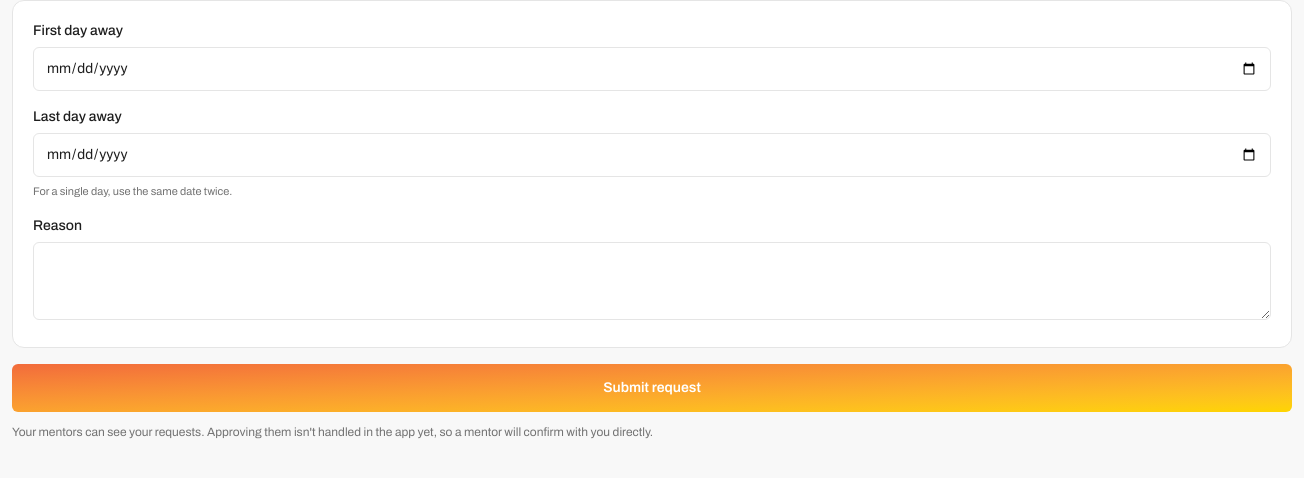
Test case: validation before anything is sent › refuses a range that ends before it starts
Step 1. Type "2026-08-07" into the date field labelled "First day away" → (652, 69), box [33,47,1271,91]
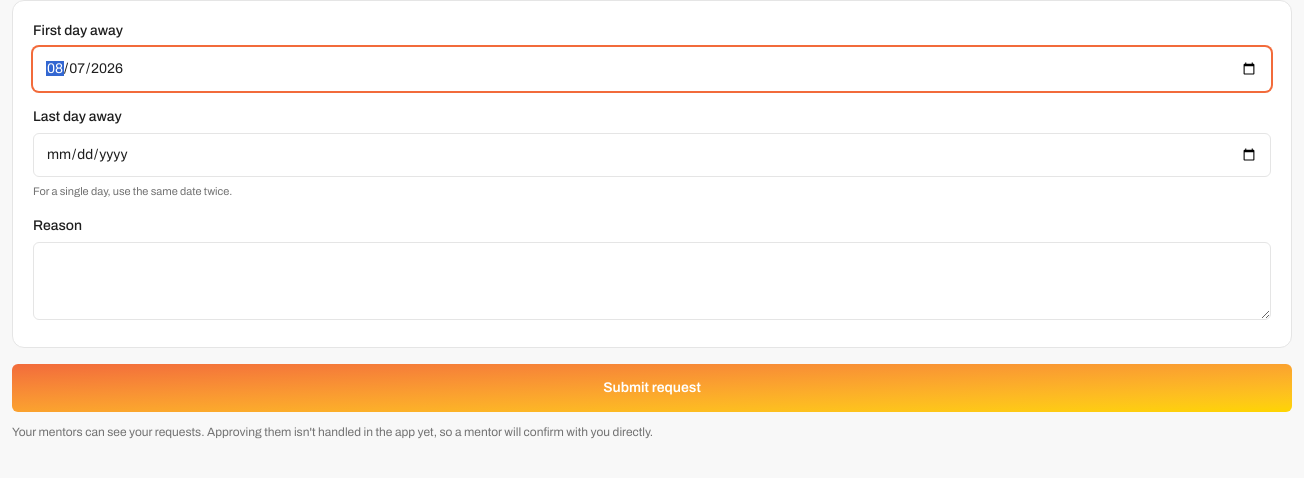
Step 2. Type "2026-08-06" into the date field labelled "Last day away" → (652, 155), box [33,133,1271,177]
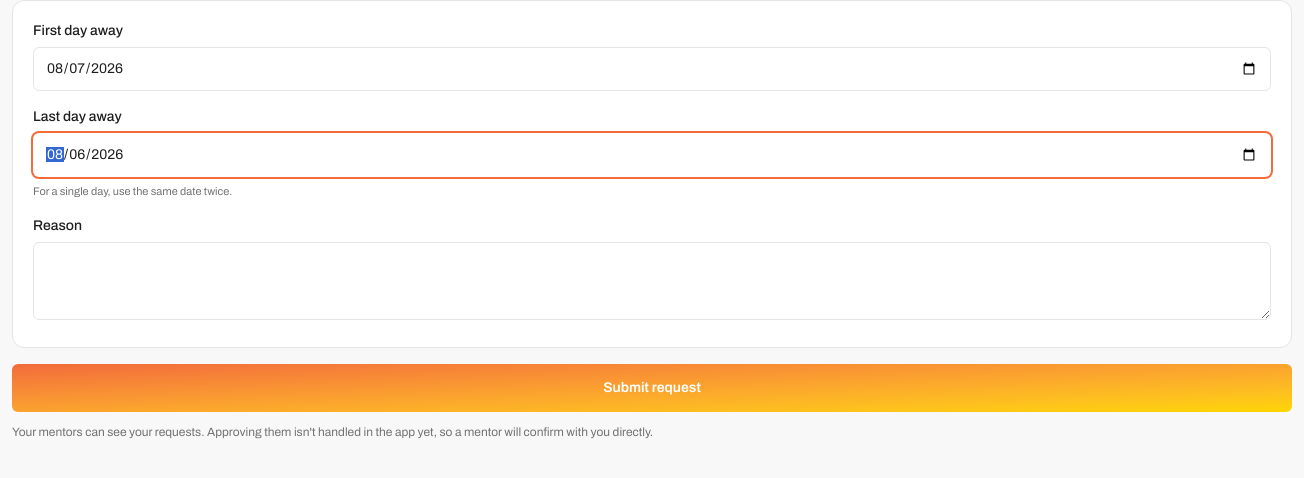
Step 3. Type "Family event" into the text box labelled "Reason" → (652, 280), box [33,242,1271,320]
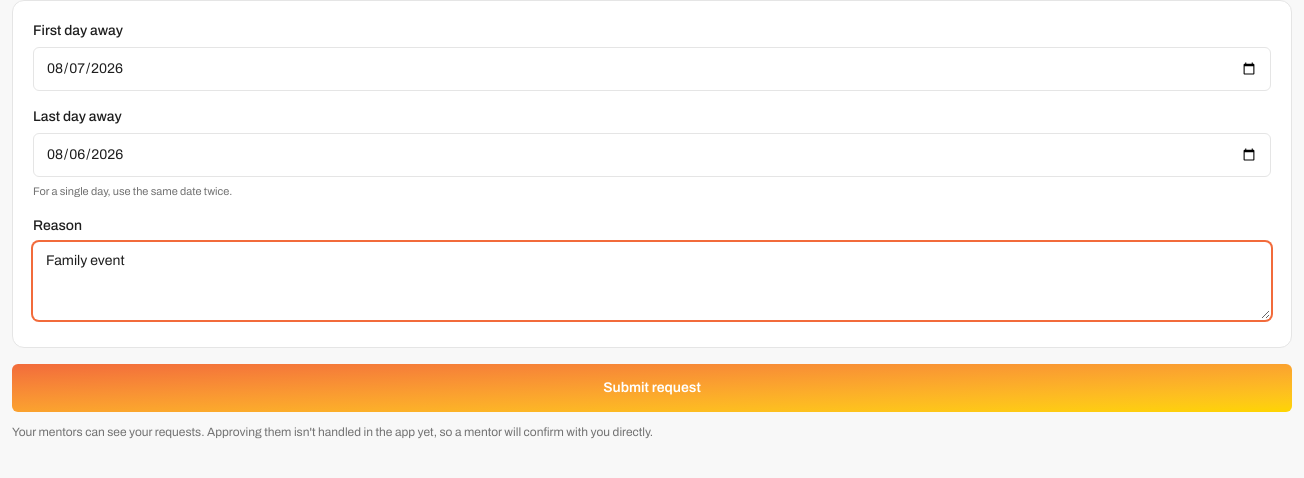
Step 4. Click the button "Submit request" → (652, 388), box [12,364,1292,412]
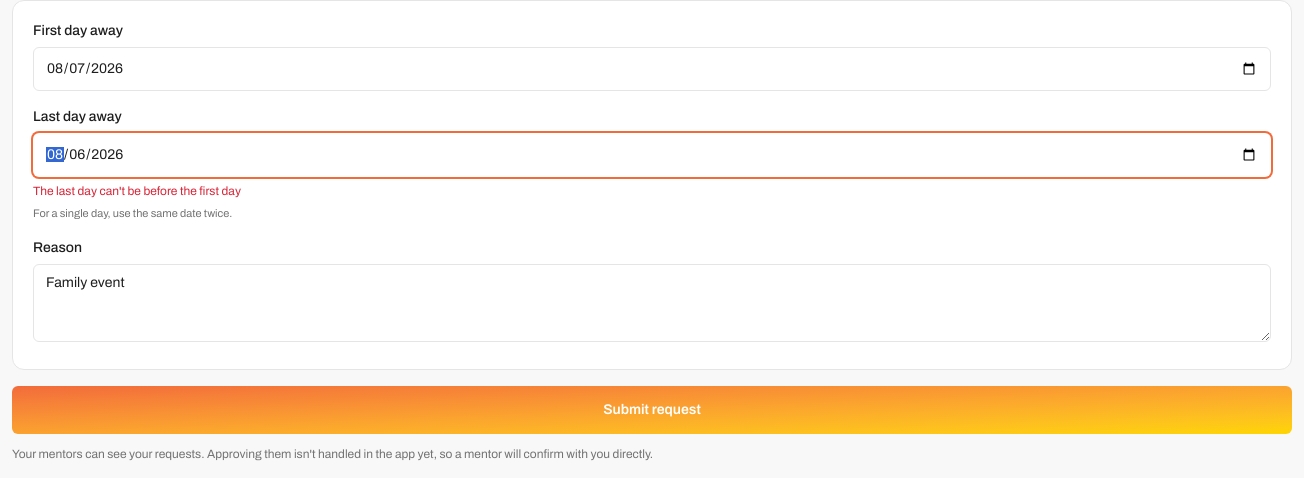
Expected: the text "The last day can't be before the first day" is shown, [33,184,241,198]
